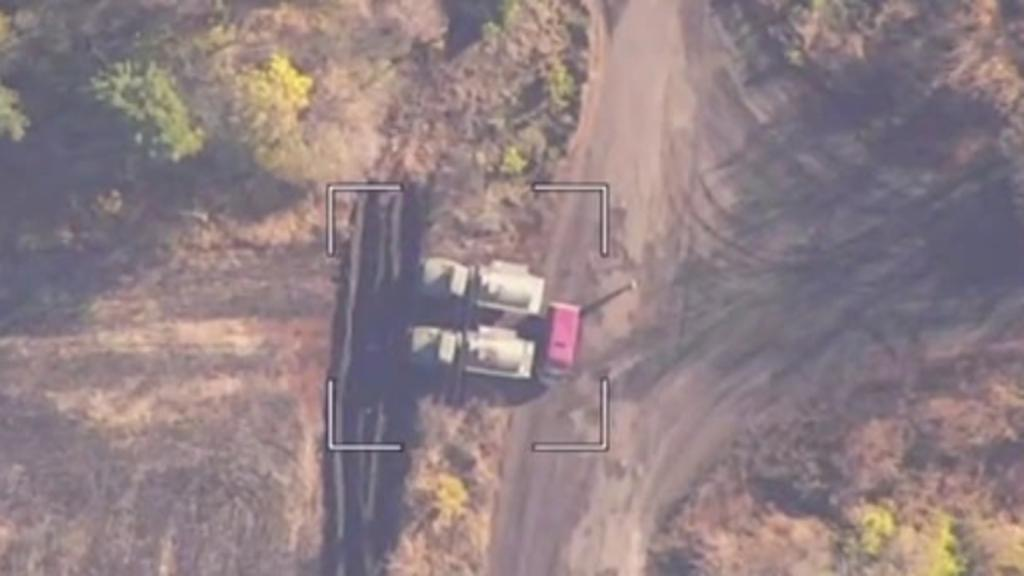CAR: (538, 299, 584, 382)
TRUCK: (414, 250, 540, 318), (398, 324, 536, 386)
